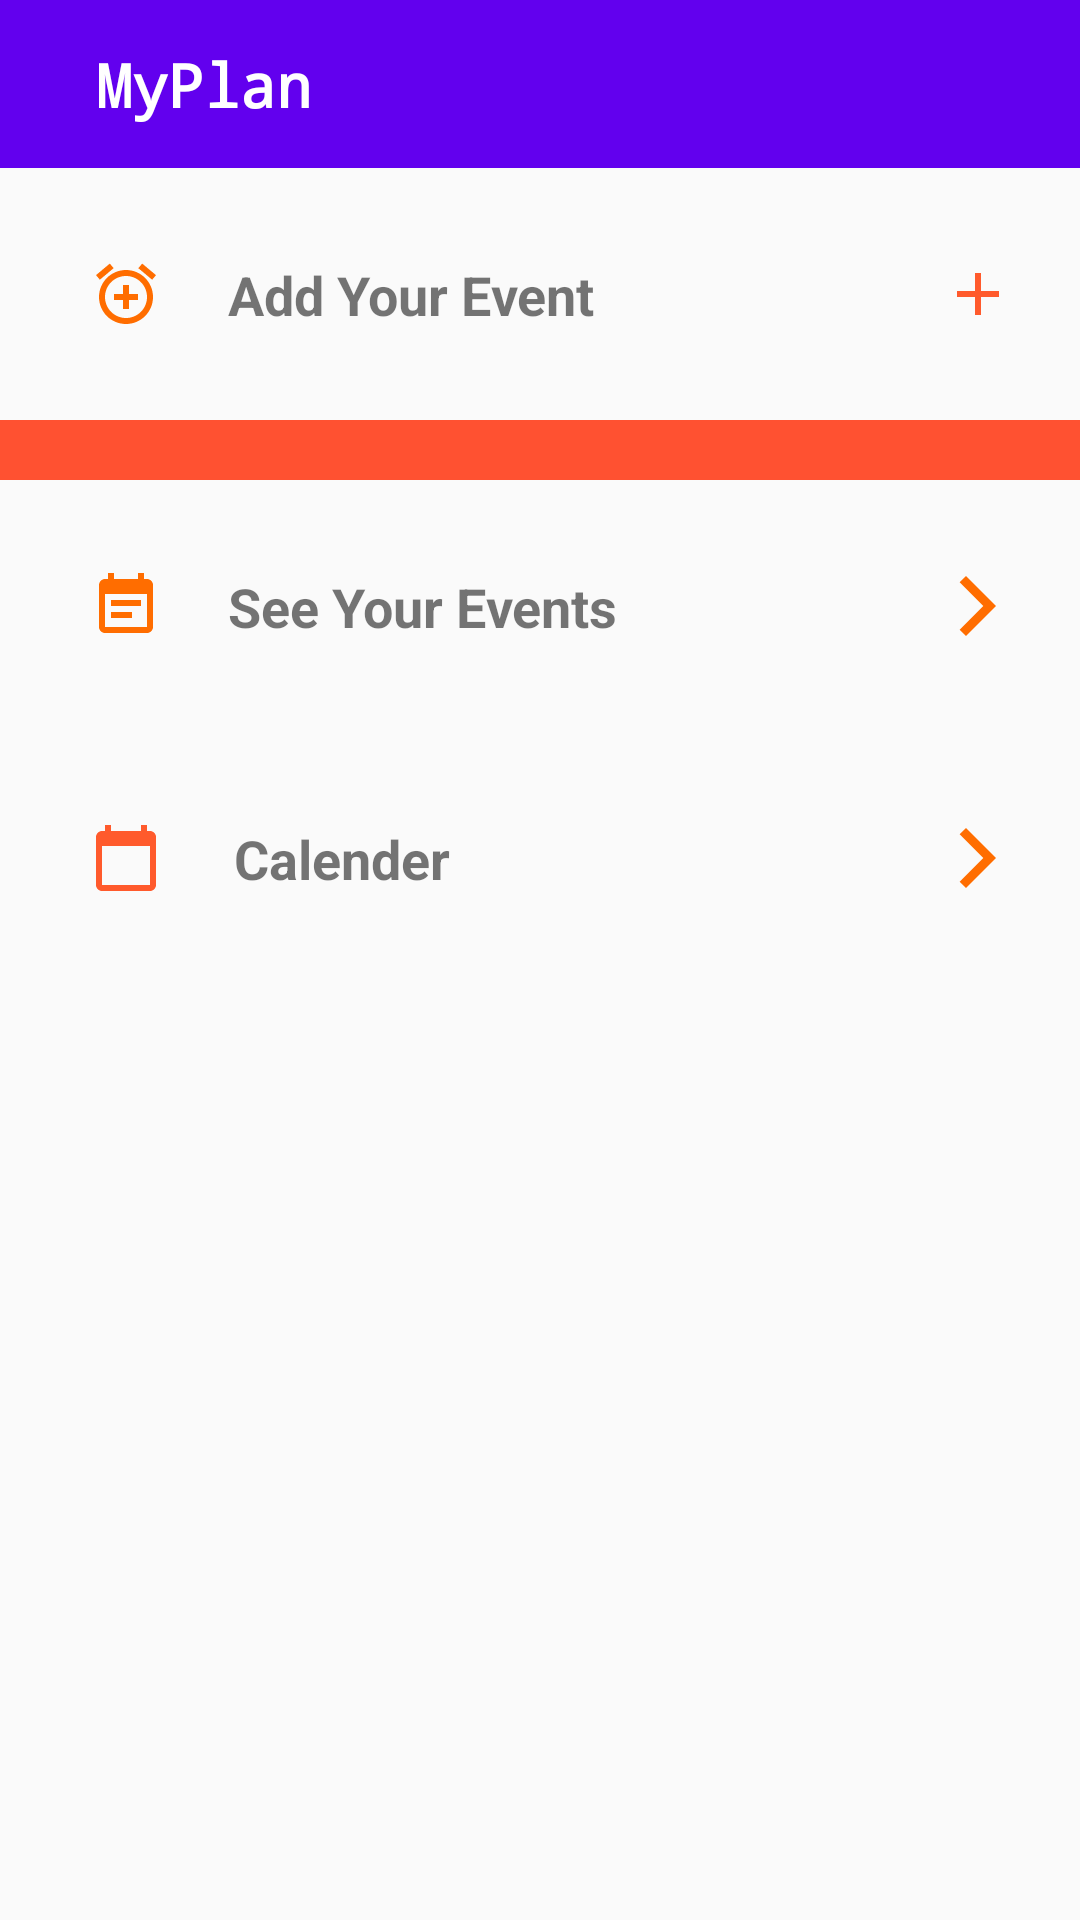

Screen size 1080w x 1920h. Icon name, then its box in pixels as region(x1, y1, x2, y2):
add: region(957, 273, 999, 315)
add alarm: region(96, 263, 156, 324)
arrow forward: region(959, 576, 996, 636), region(959, 828, 996, 888)
calendar today: region(96, 825, 156, 891)
event note: region(99, 573, 153, 633)
